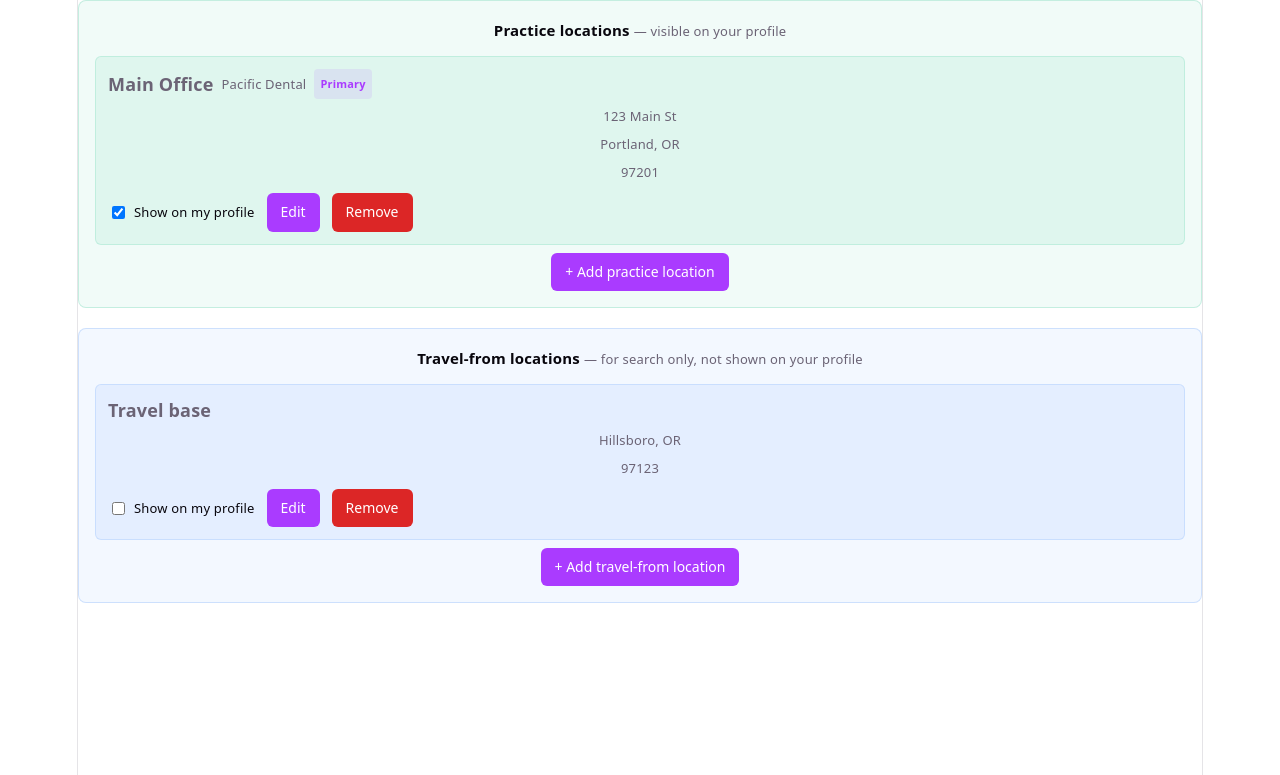
it: LocationEntry › switches to edit form when Edit is clicked
This screenshot has width=1280, height=775.
Check: the text "Main Office" is shown, box [108,71,214,97]
# Click Edit on the first (public) location
Click the button "Edit" below "Main Office". click: (293, 213)
box: [266,194,320,232]
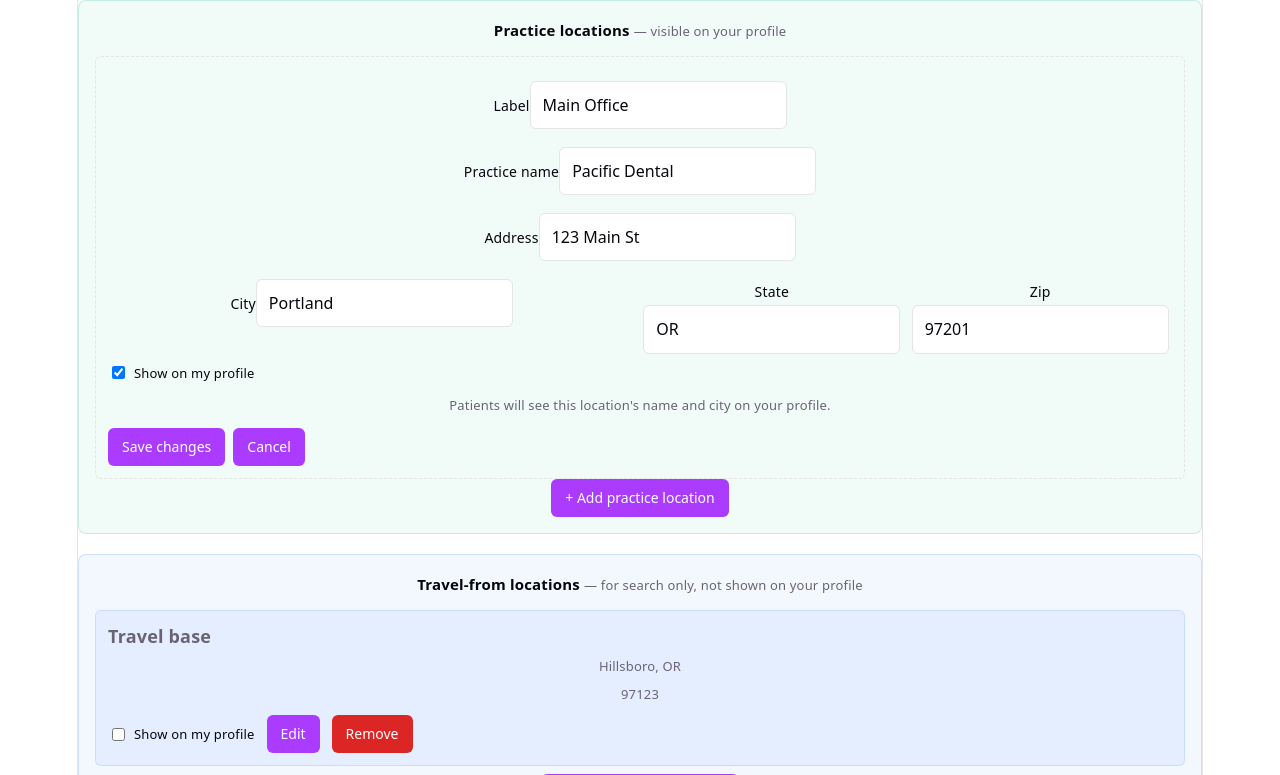
Check: the button "Save changes" is shown, box [108,428,225,466]
Check: the button "Cancel" is shown, box [233,428,305,466]
Check: the field labelled "Label" holds "Main Office", box [530,81,787,129]
